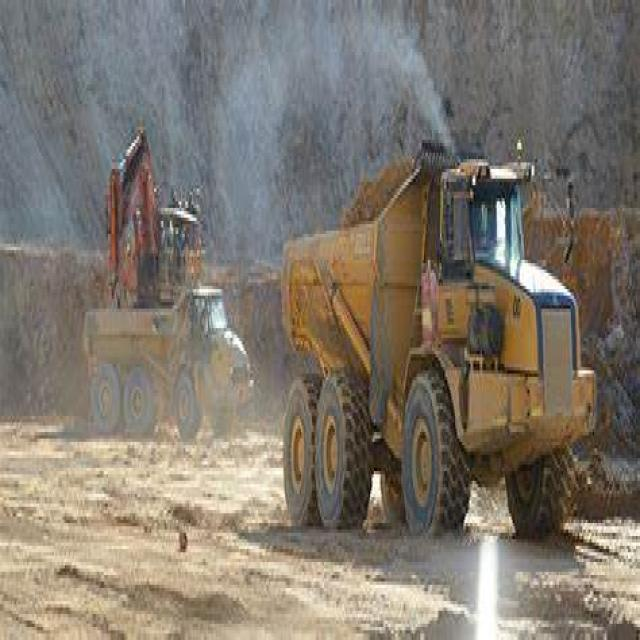dump_truck: (286, 133, 610, 588), (69, 195, 263, 464)
